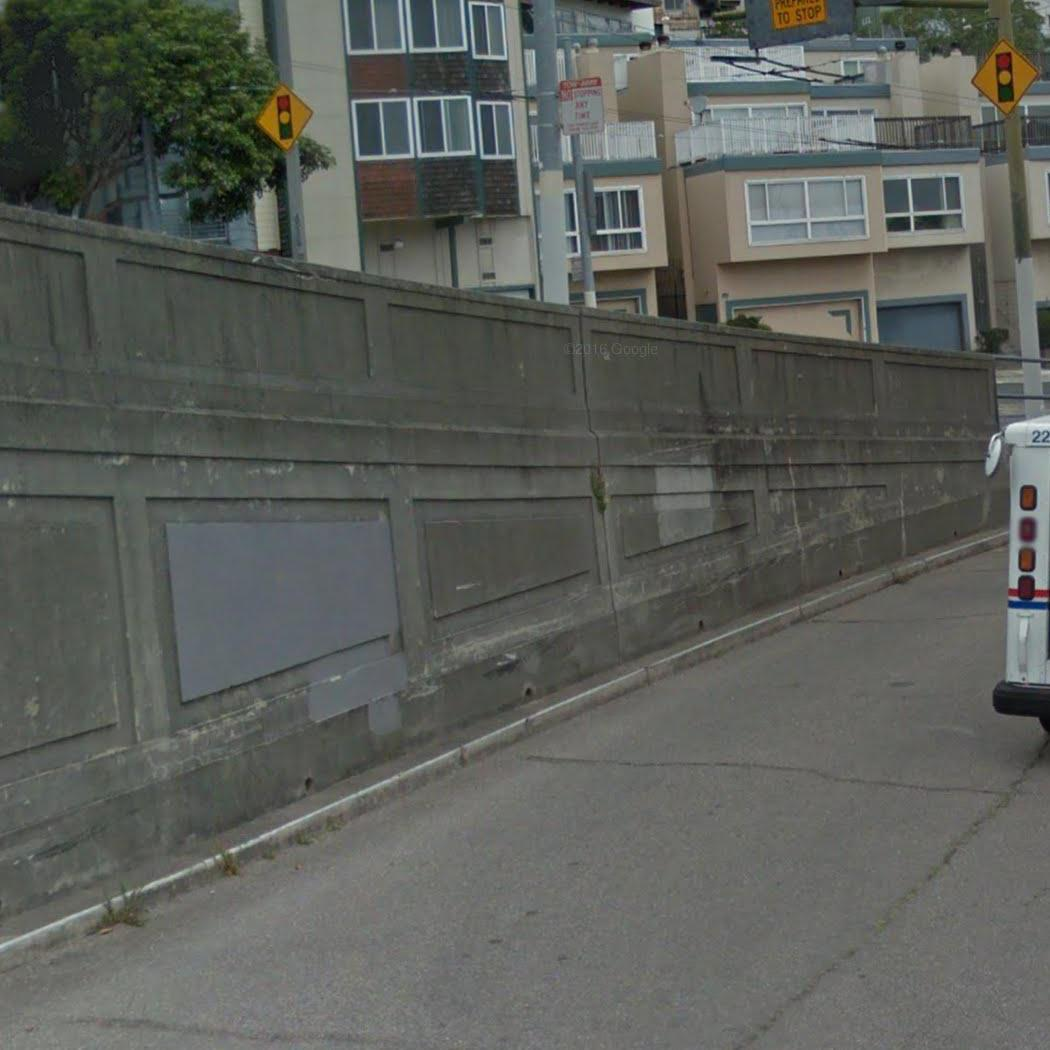No Parking Anytime: (551, 72, 610, 139)
